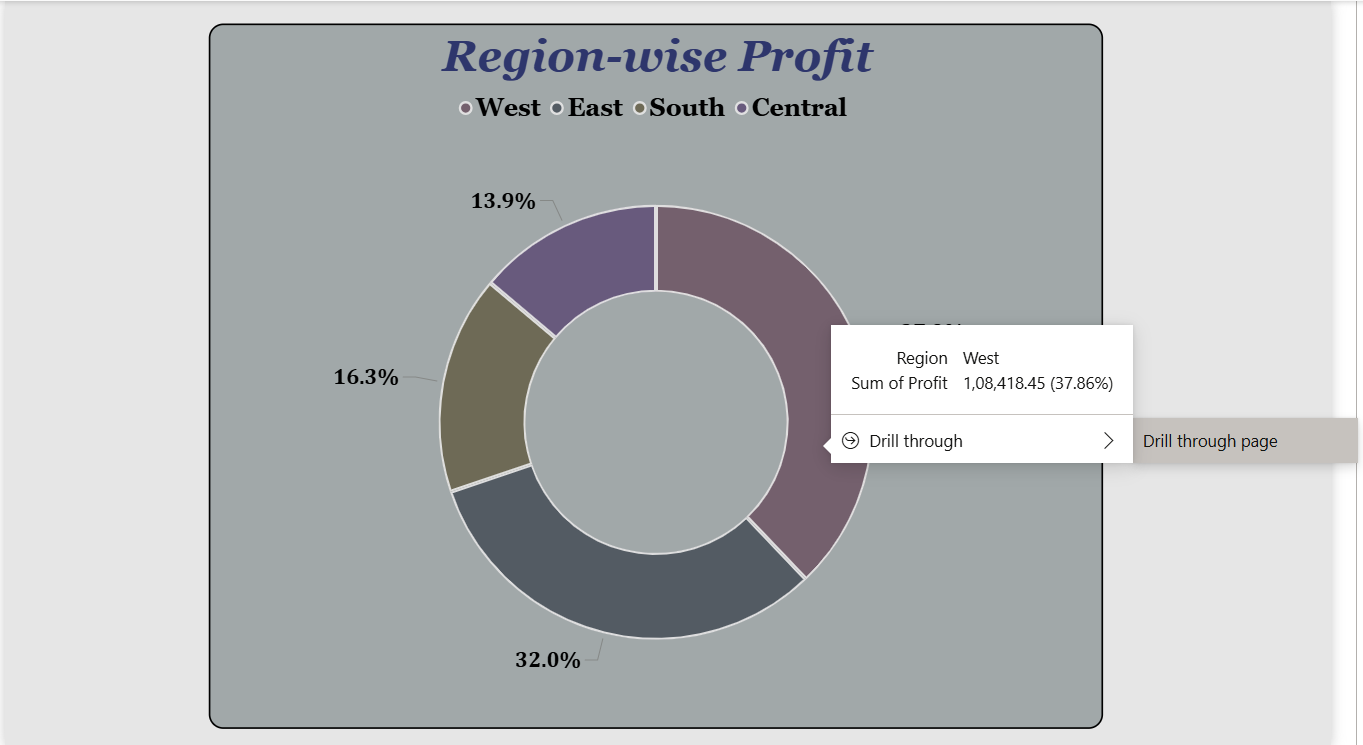

This screenshot's page, from the dashboard's own definition file:
{"tool":"powerbi","page":{"name":"Q7.","canvas":[1280,720],"ordinal":5},"visuals":[{"type":"donutChart","title":"Region-wise Profit","fields":{"Y":["Sum(Orders.Profit)"],"Category":["Orders.Region"]},"box":[196.9,22,863.3,681.1],"z":0}]}

Visuals, with their boxes in screenshot pixels (x1, y1, x2, y2), scaled from the page's 1280x720 canvas onto the 1363x745 screenshot:
"Region-wise Profit" donutChart: x1=210 y1=23 x2=1129 y2=728
